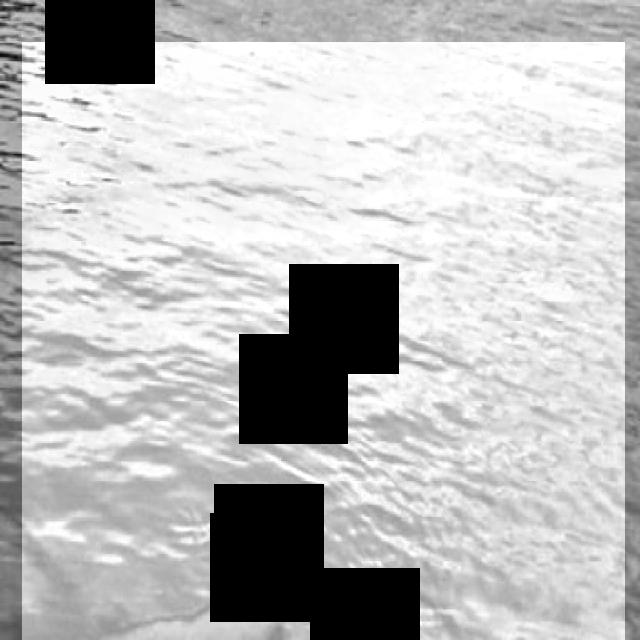oil spill: (22, 42, 625, 640)
